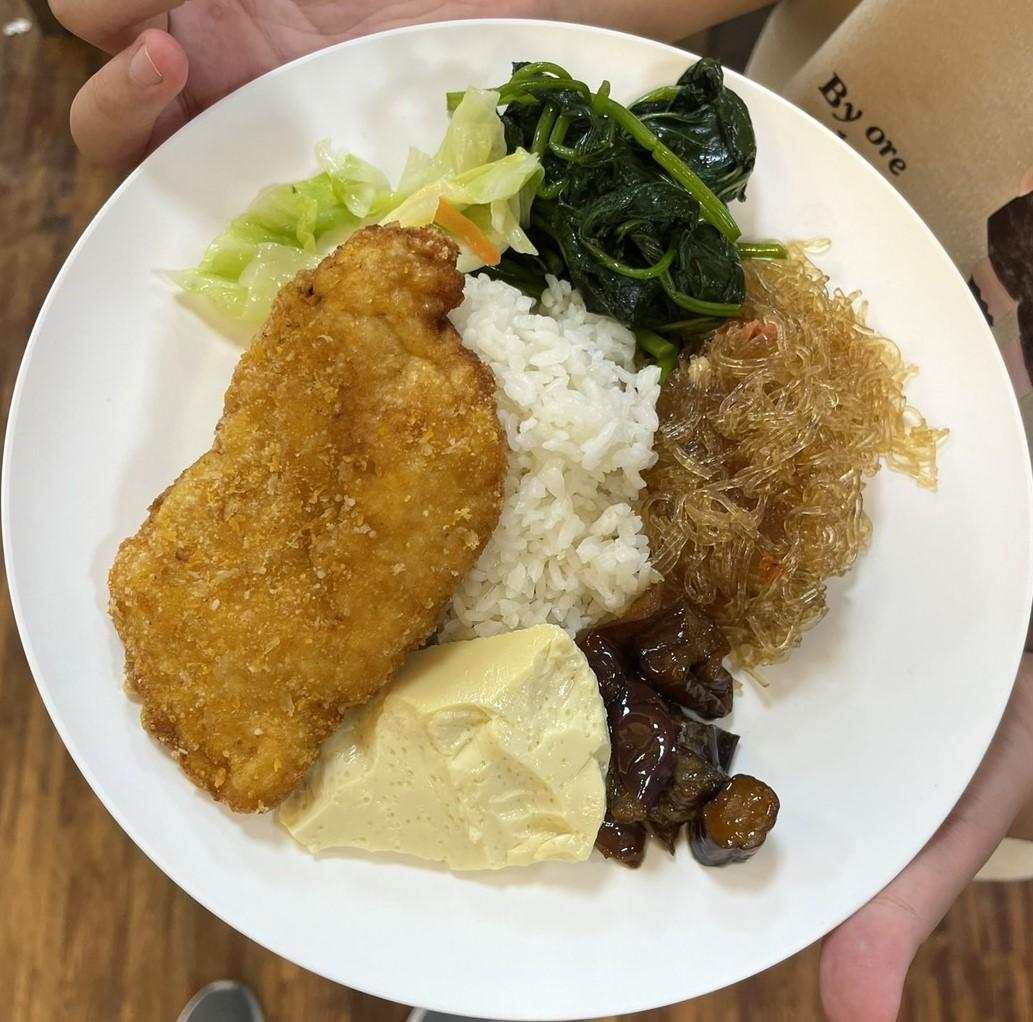big fried chicken leg: (0, 14, 1033, 1022)
big herbal chicken leg: (443, 276, 663, 638)
braised fish fillet: (645, 241, 898, 654), (181, 85, 531, 343), (271, 620, 615, 878), (503, 45, 761, 341), (578, 620, 783, 866)
braised pork: (99, 221, 515, 814)
